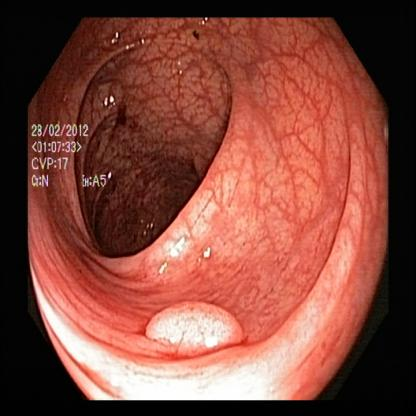Labels: (26, 122, 118, 192)
Polyps: (143, 286, 249, 354)
